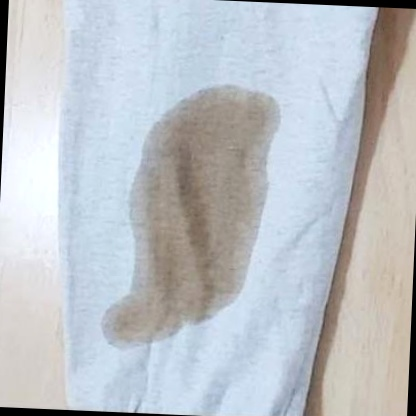coffee: (128, 95, 266, 310)
